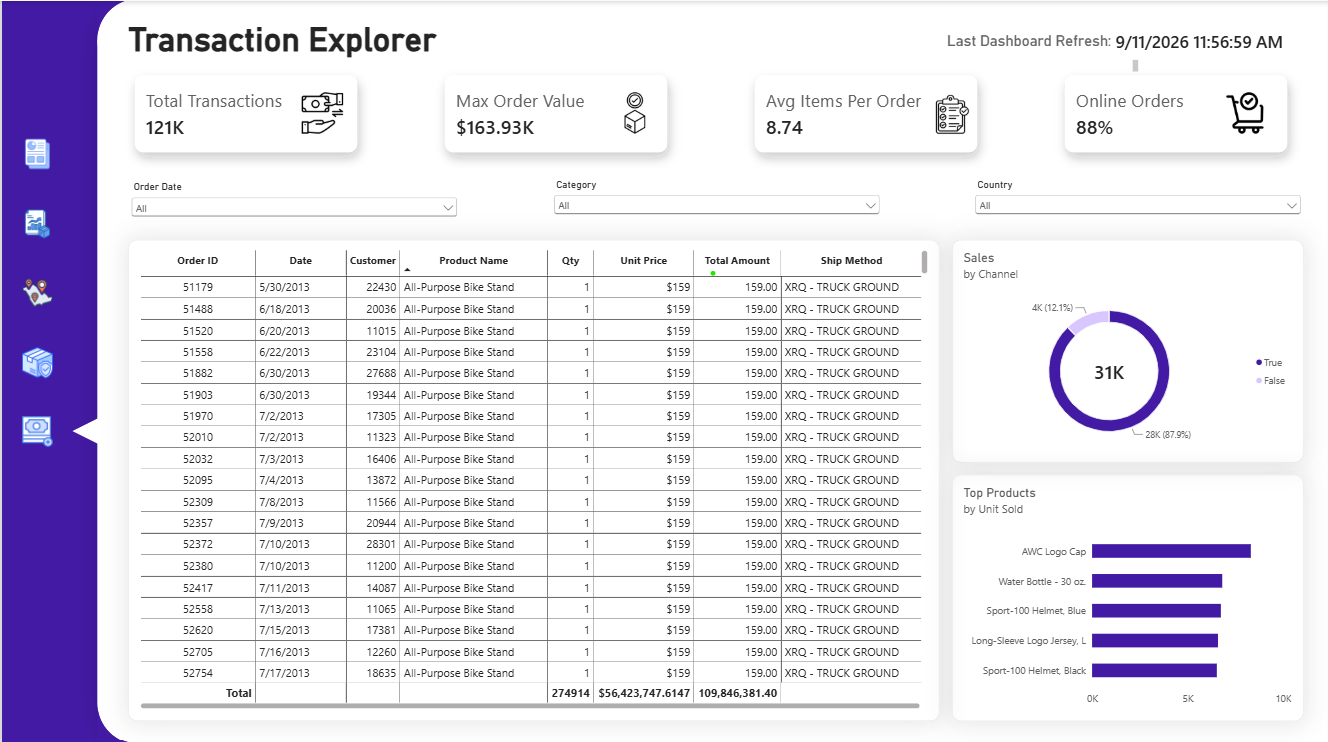

The dashboard page shown, as its layout file describes it:
{"tool":"powerbi","page":{"name":"Transaction Explorer","canvas":[1920,1080],"ordinal":4},"visuals":[{"type":"cardVisual","fields":{"Data":["DAX_Measures.Avg Items Per Order"]},"box":[1065.9,83.7,370,160],"z":0},{"type":"cardVisual","fields":{"Data":["DAX_Measures.Total Transactions"]},"box":[168.3,83.6,370,160.3],"z":1000},{"type":"cardVisual","fields":{"Data":["DAX_Measures.Max Order Value"]},"box":[617.1,83.7,370,160],"z":2000},{"type":"cardVisual","fields":{"Data":["DAX_Measures.Online Orders %"]},"box":[1514.7,83.7,370,160],"z":3000},{"type":"slicer","fields":{"Values":["Orders.OrderMonthDate"]},"box":[182.8,260.8,481,57.9],"z":4000},{"type":"slicer","fields":{"Values":["Category.Category"]},"box":[793.5,257.8,481,63.9],"z":5000},{"type":"slicer","fields":{"Values":["Territories.CountryRegionCode"]},"box":[1404.3,257.8,481,63.9],"z":6000},{"type":"donutChart","title":"Sales","fields":{"Category":["Orders.OnlineOrderFlag"],"Y":["DAX_Measures.Total Orders"]},"box":[1375.3,345.6,508.5,322.1],"z":7000},{"type":"tableEx","fields":{"Values":["Orders.OrderID","Orders.OrderDate","CountNonNull(Orders.CustomerID)","Products.Product","Sum(OrderDetails.OrderQty)","Sum(OrderDetails.UnitPrice)","Sum(OrderDetails.LineTotal)","ShipMethod.Name"]},"box":[182.8,345.6,1174.5,696.7],"z":8000},{"type":"clusteredBarChart","title":"Top Products ","fields":{"Category":["Products.Product"],"Y":["Sum(OrderDetails.OrderQty)"]},"box":[1375.3,685.9,508.5,356.5],"z":9000},{"type":"image","box":[29,199.1,45,45],"z":10000},{"type":"image","box":[29,299.5,45,45],"z":11000},{"type":"image","box":[29,399.9,45,45],"z":12000},{"type":"image","box":[29,500.4,45,45],"z":13000},{"type":"image","box":[29,600.8,45,45],"z":14000},{"type":"textbox","title":"Transaction Explorer","box":[182.8,27.1,693.1,56.1],"z":15000},{"type":"textbox","title":"Last Dashboard Refresh:","box":[1368.1,45.2,276.9,57.9],"z":16000},{"type":"cardVisual","fields":{"Data":["DAX_Measures.System Time"]},"box":[1596.1,43.4,323.9,30.8],"z":17000},{"type":"shape","box":[101.3,602.6,40,40],"z":17001},{"type":"image","box":[423.5,132.1,80,60],"z":17002},{"type":"image","box":[875.9,132.1,80,60],"z":17003},{"type":"image","box":[1335.5,133.9,80,60],"z":17004},{"type":"image","box":[1759,132.1,80,60],"z":17005}]}

Visuals, with their boxes on the page's 1920x1080 design canvas (x1, y1, x2, y2). These are canvas units, not pixel positions in the 1328x742 screenshot, which may show the page scaled, cropped or inside an application window:
cardVisual - DAX_Measures.Avg Items Per Order: [1066,84,1436,244]
cardVisual - DAX_Measures.Total Transactions: [168,84,538,244]
cardVisual - DAX_Measures.Max Order Value: [617,84,987,244]
cardVisual - DAX_Measures.Online Orders %: [1515,84,1885,244]
slicer - Orders.OrderMonthDate: [183,261,664,319]
slicer - Category.Category: [794,258,1274,322]
slicer - Territories.CountryRegionCode: [1404,258,1885,322]
"Sales" donutChart: [1375,346,1884,668]
tableEx - Orders.OrderID x Orders.OrderDate: [183,346,1357,1042]
"Top Products " clusteredBarChart: [1375,686,1884,1042]
image: [29,199,74,244]
image: [29,300,74,344]
image: [29,400,74,445]
image: [29,500,74,545]
image: [29,601,74,646]
"Transaction Explorer" textbox: [183,27,876,83]
"Last Dashboard Refresh:" textbox: [1368,45,1645,103]
cardVisual - DAX_Measures.System Time: [1596,43,1920,74]
shape: [101,603,141,643]
image: [424,132,504,192]
image: [876,132,956,192]
image: [1336,134,1416,194]
image: [1759,132,1839,192]
